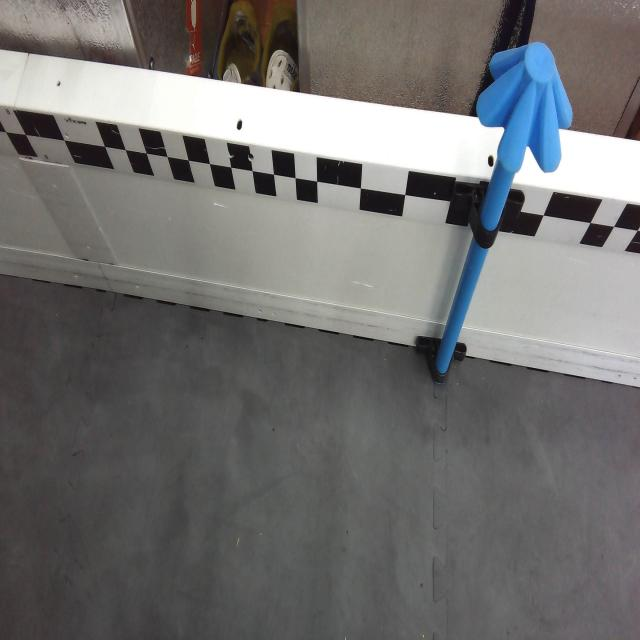zblue-Stake-Head: (475, 40, 574, 171)
